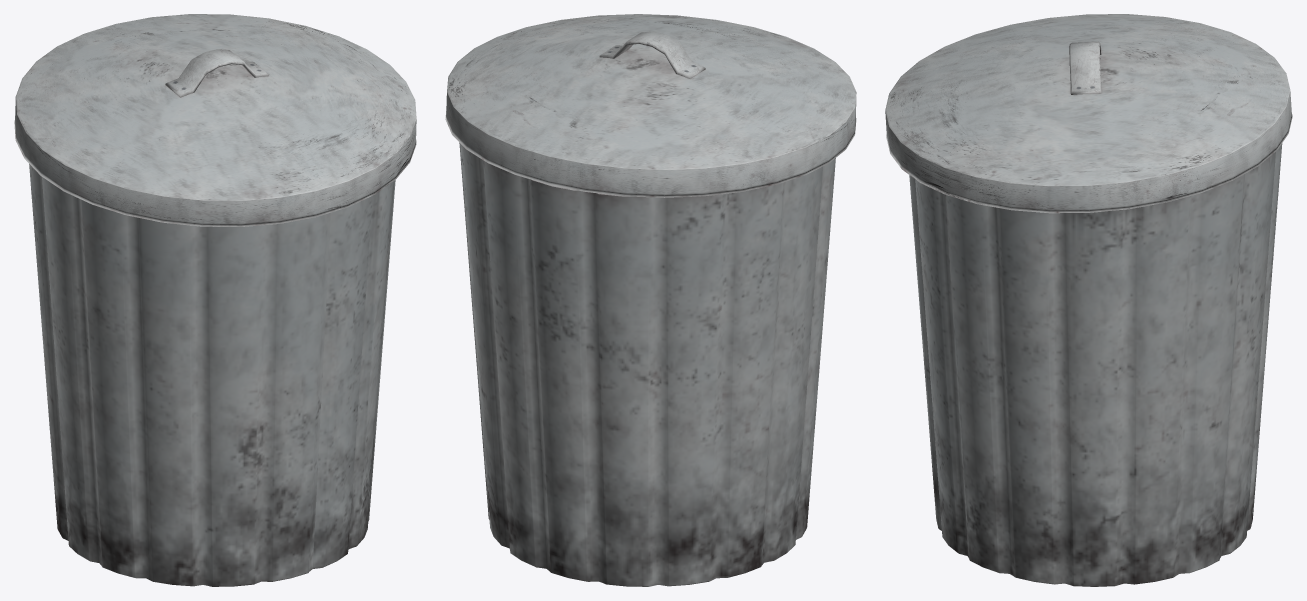
Rendered from trashbin.fbx.
3 renders of one model, left to right at view 1: azimuth 30°, elevation 25°; view 2: azimuth 150°, elevation 25°; view 3: azimuth 270°, elevation 25°, orthographic. The views are drawn at different scales.
Parts seen in each view (by area): view 1: Cylinder, Cylinder.001, Cube; view 2: Cylinder, Cylinder.001, Cube; view 3: Cylinder, Cylinder.001, Cube.
Part boxes in pixels (bbox=[...]): Cylinder: bbox=[29, 164, 395, 586]; Cylinder.001: bbox=[14, 14, 416, 226]; Cube: bbox=[165, 49, 268, 97]; Cylinder: bbox=[459, 142, 835, 586]; Cylinder.001: bbox=[445, 14, 856, 197]; Cube: bbox=[599, 31, 705, 78]; Cylinder: bbox=[909, 143, 1282, 586]; Cylinder.001: bbox=[885, 14, 1292, 213]; Cube: bbox=[1069, 41, 1101, 94].
Bounding box in the file's own units: 278 × 357 × 278.
